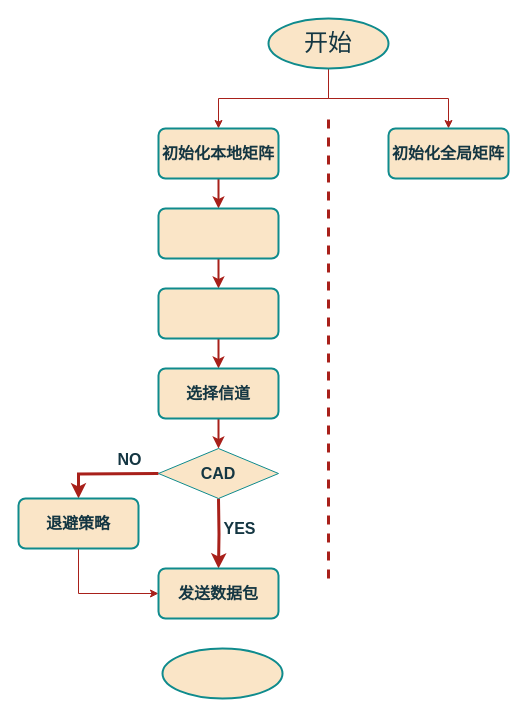
This 526x716 diagram has some shape labels left out. The box of each missing label's shape, as (x1, y1, x2, y2) in pixels:
接收Beacon: (157, 207, 279, 259)
结束: (161, 647, 283, 699)
计算加权后矩阵: (157, 287, 279, 339)
